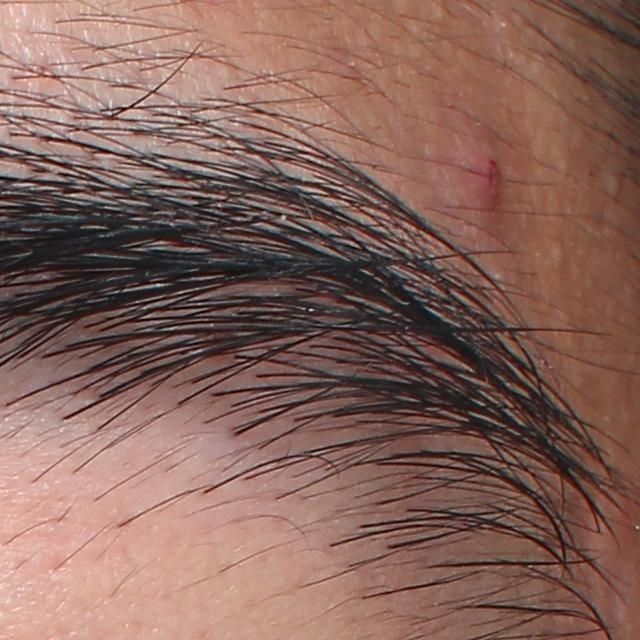comedo: (603, 167, 625, 197), (554, 238, 567, 271)
